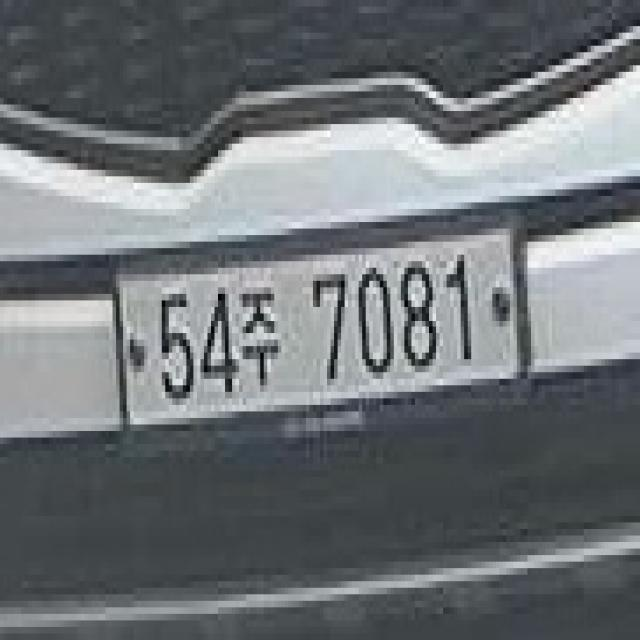0: (352, 261, 397, 366)
1: (446, 242, 488, 372)
4: (201, 281, 239, 398)
5: (151, 287, 197, 418)
7: (310, 261, 348, 379)
8: (397, 254, 436, 378)
ju: (228, 268, 285, 398)
license_plate: (109, 203, 531, 457)
